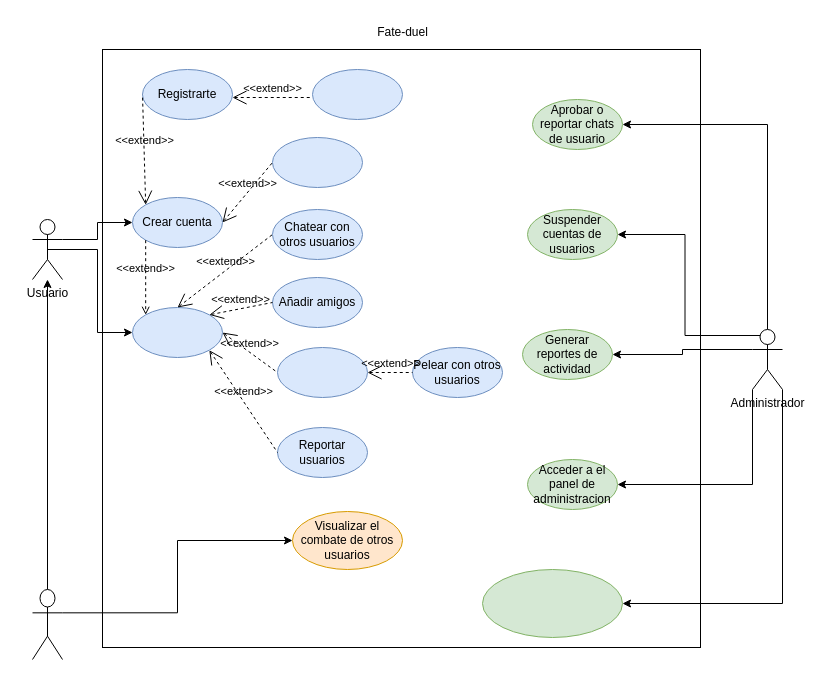
Image size: 822x697. Some labels were removed from this diagram. Each missing label, with the box of its shape:
Editar perfil: (312, 68, 402, 120)
Elegir clase: (276, 346, 368, 398)
Eliminar cuenta: (272, 136, 362, 188)
Espectador: (32, 588, 62, 660)
Iniciar sesión: (132, 306, 222, 358)
Modificar o eliminar cuentas de usuario en caso de mal uso.: (482, 568, 622, 638)
